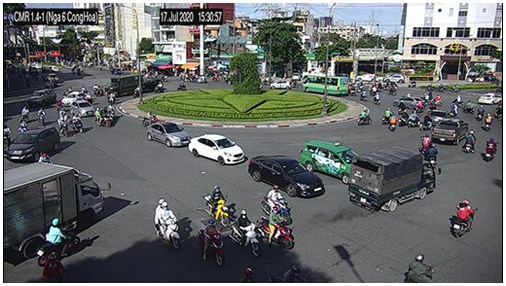xe_buyt: (301, 75, 347, 96)
xe_hoi: (248, 155, 326, 198), (302, 140, 356, 181), (189, 134, 243, 167), (6, 128, 61, 160), (147, 122, 188, 148), (435, 118, 468, 145), (394, 94, 428, 109), (29, 88, 56, 106), (70, 100, 94, 117), (62, 91, 90, 105), (427, 107, 447, 126), (478, 92, 500, 106), (382, 73, 405, 85), (142, 78, 161, 92), (268, 79, 289, 91), (354, 73, 377, 81), (47, 72, 58, 81)
xe_may: (36, 219, 79, 262), (228, 209, 260, 257), (258, 206, 293, 248), (154, 199, 182, 251), (197, 219, 225, 267), (261, 185, 290, 223), (205, 185, 228, 228), (451, 198, 474, 238), (45, 253, 70, 281), (92, 107, 109, 127), (464, 129, 477, 155), (485, 138, 499, 162), (427, 143, 438, 170), (141, 110, 159, 126), (420, 109, 432, 132), (357, 108, 371, 127), (70, 113, 84, 132), (419, 134, 430, 156), (59, 112, 69, 136), (461, 100, 476, 114), (409, 108, 419, 127), (484, 113, 494, 131), (38, 152, 54, 163), (3, 123, 10, 148), (382, 106, 391, 125), (36, 108, 45, 126), (431, 94, 444, 106), (153, 81, 165, 94), (390, 111, 397, 133), (398, 109, 407, 126), (359, 88, 369, 103), (106, 103, 115, 119), (107, 90, 116, 106), (372, 92, 381, 106), (177, 80, 188, 91), (477, 105, 484, 121), (449, 102, 457, 116), (22, 104, 29, 120), (96, 84, 105, 96), (450, 82, 460, 92), (133, 86, 142, 97), (55, 100, 62, 113), (408, 78, 417, 88), (290, 78, 297, 89), (388, 83, 394, 95), (426, 82, 435, 90), (436, 84, 445, 91), (18, 122, 25, 131), (93, 84, 97, 97)
xe_tai: (107, 75, 143, 95)
